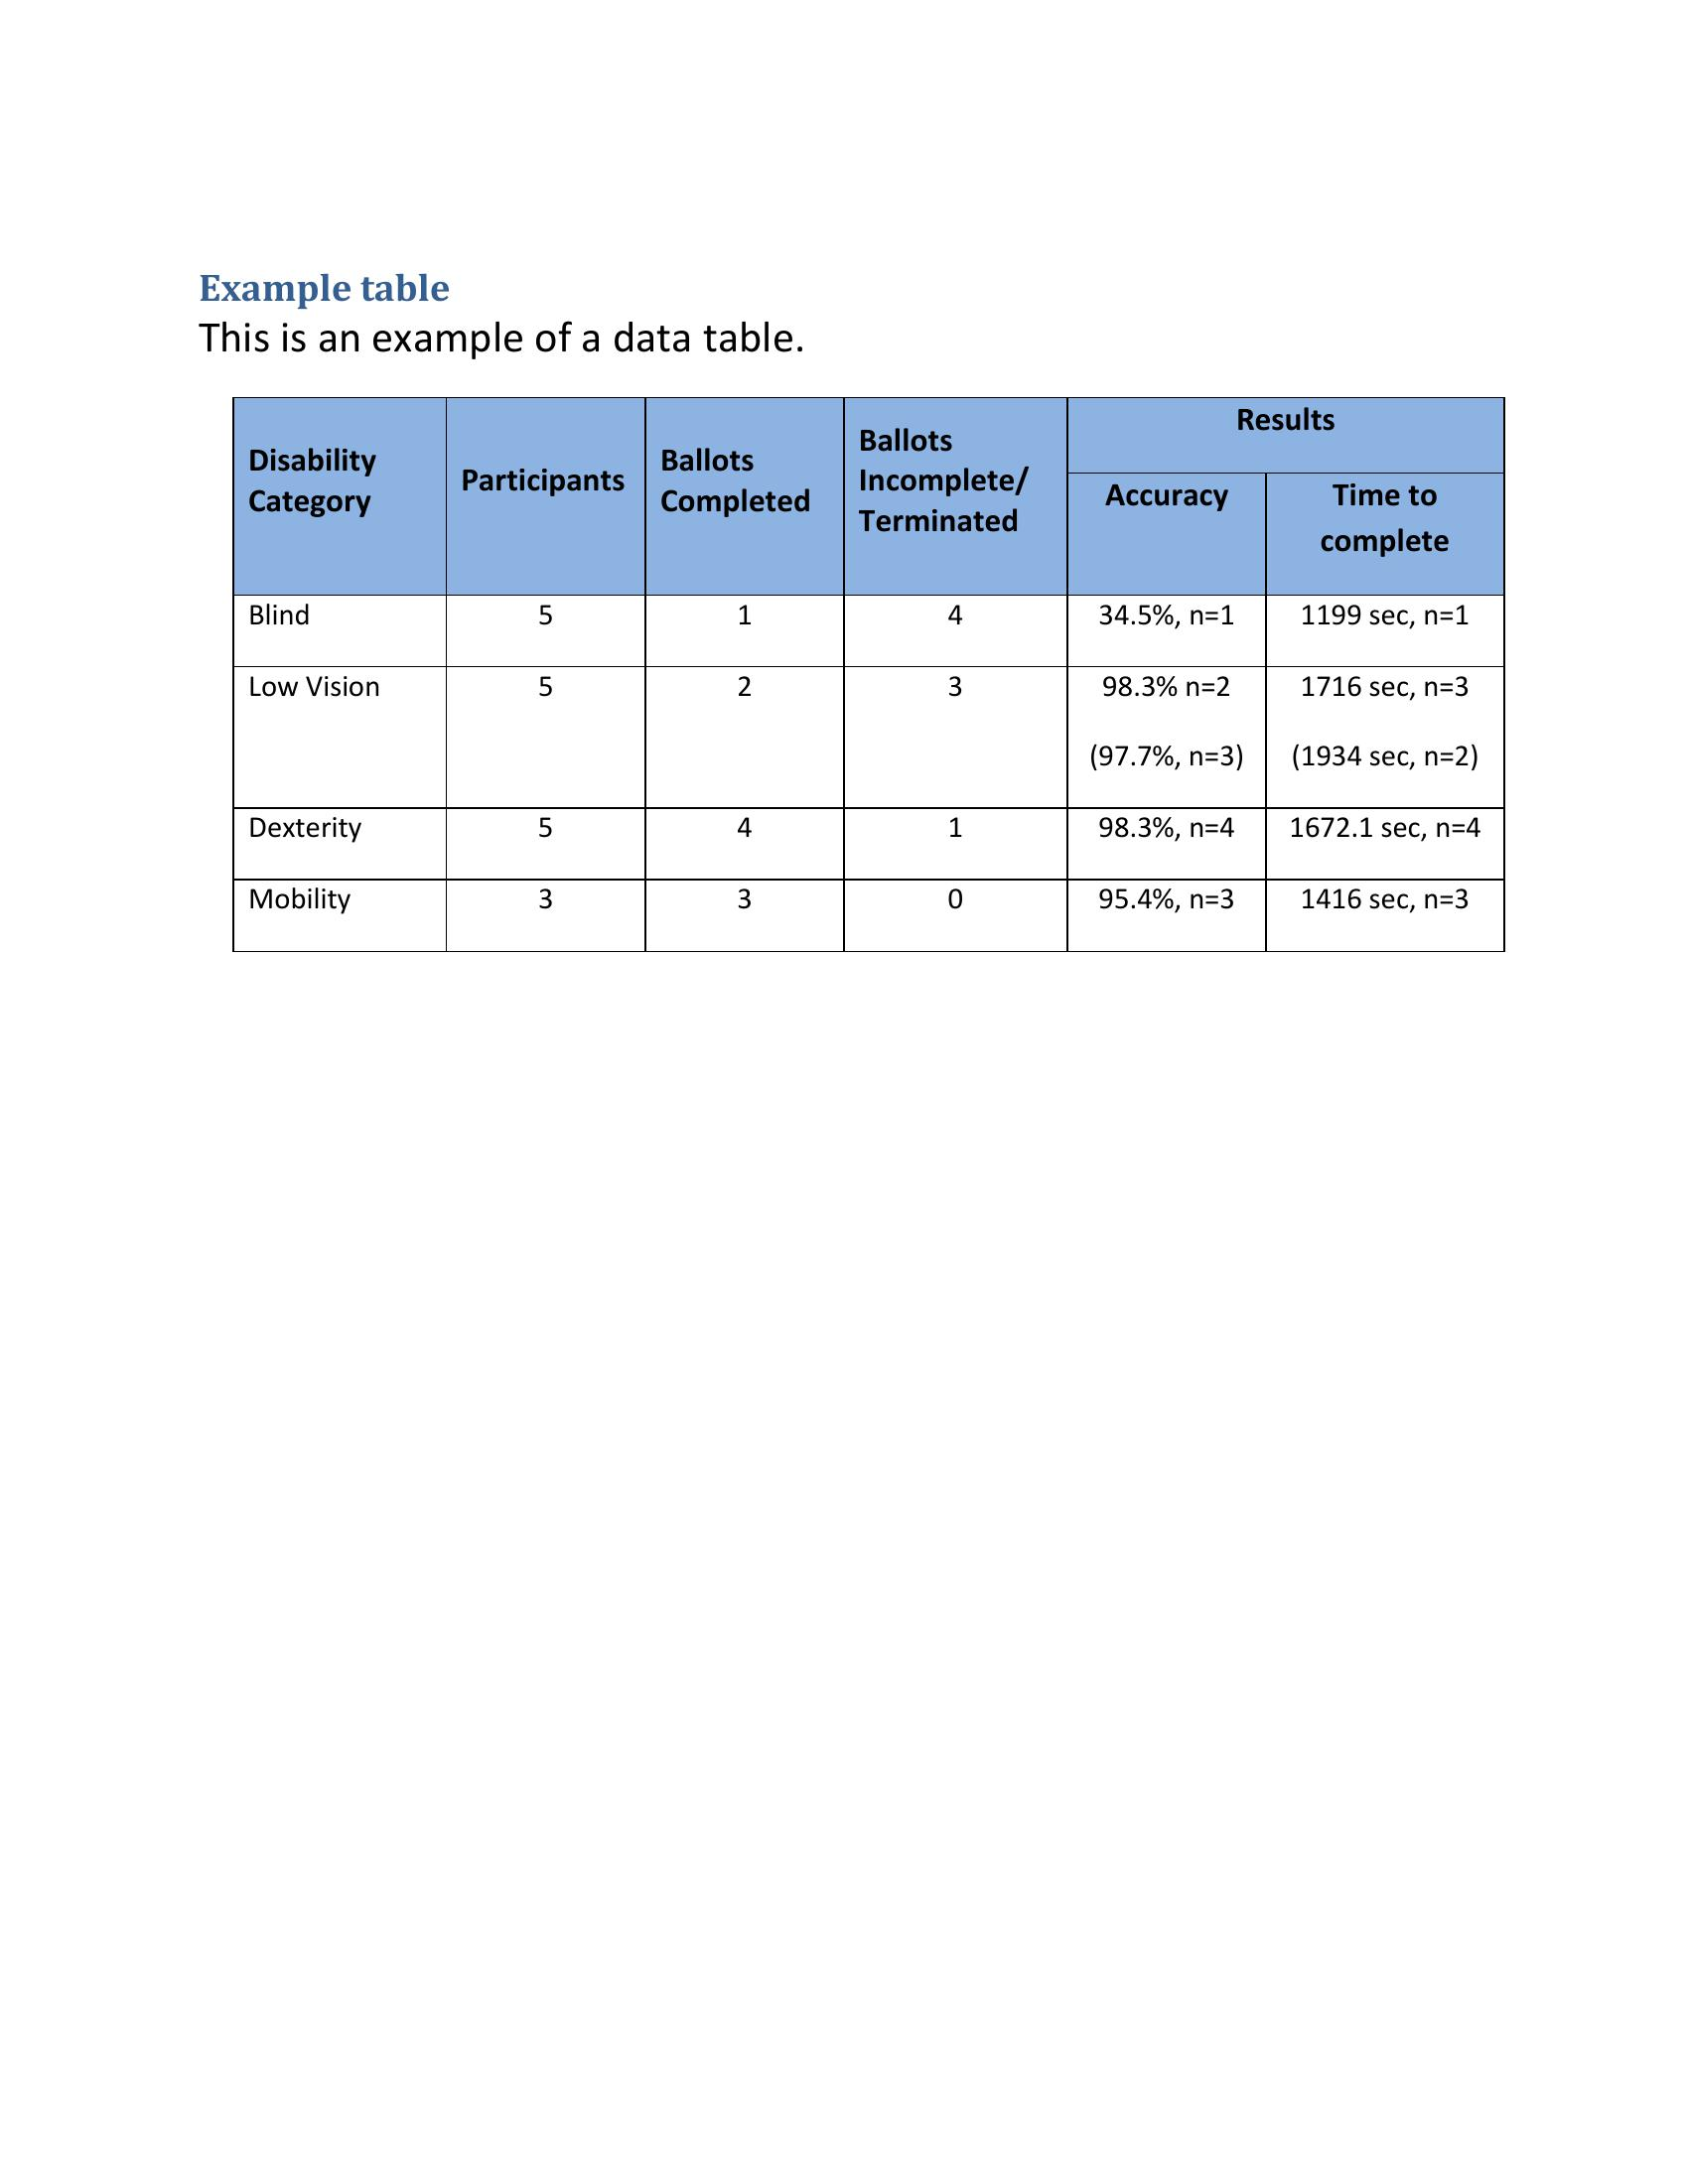table: (227, 394, 1511, 963)
